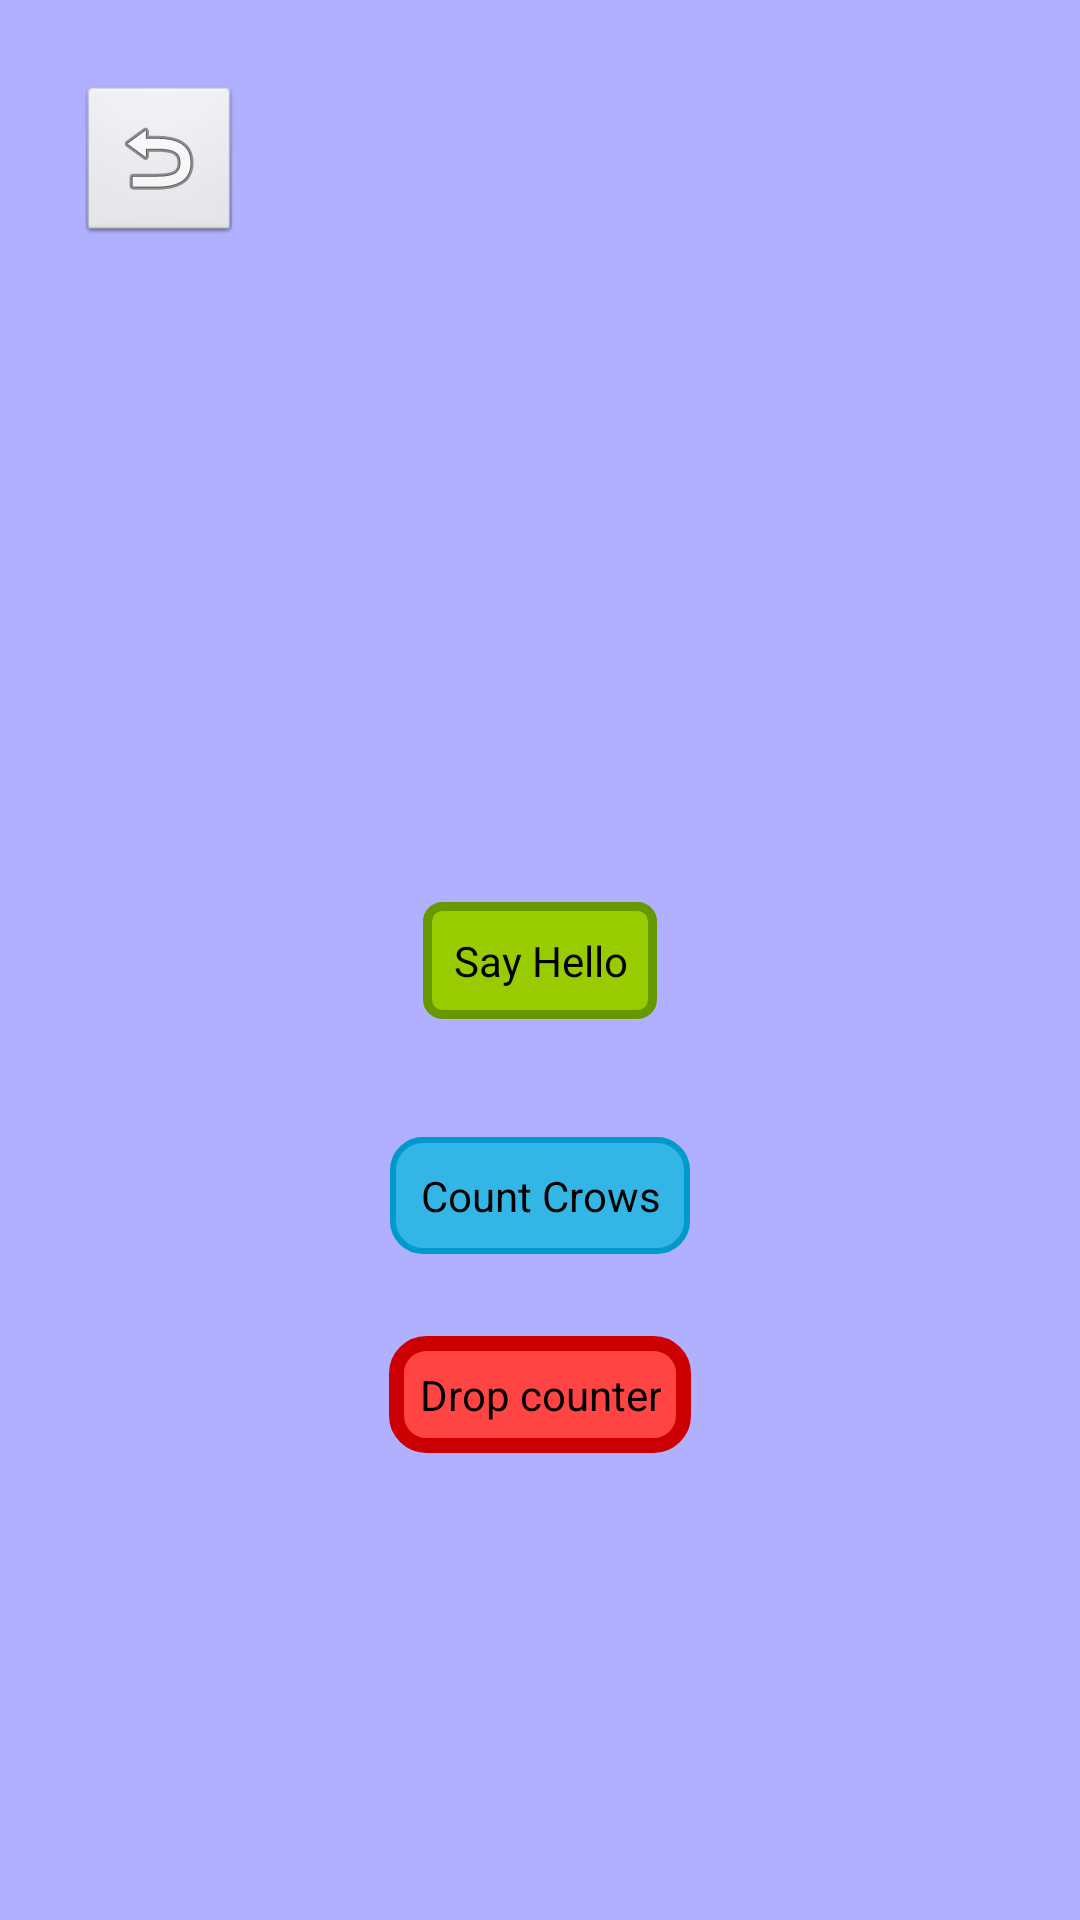

Named icons in this screenshot (1080w x 1920h) and their bounding boxes, (x1, y1, x2, y2):
Go Back: (86, 88, 232, 232)
